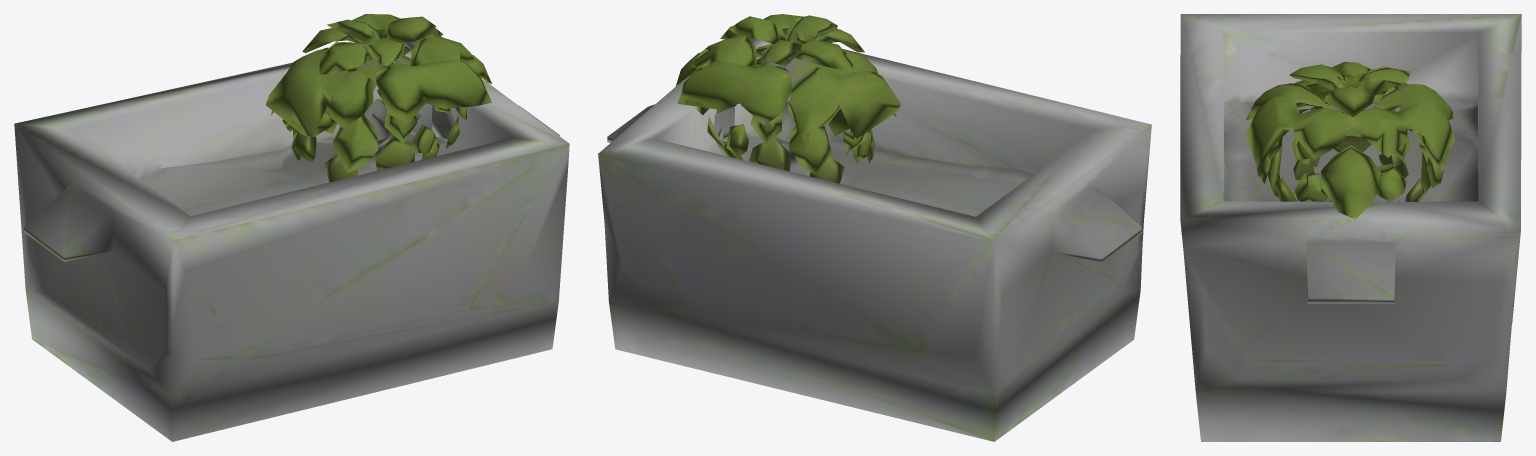
The picture shows the model from 3 angles, left to right: view 1: azimuth 30°, elevation 25°; view 2: azimuth 150°, elevation 25°; view 3: azimuth 270°, elevation 25°; orthographic projection. The views are drawn at different scales.
Size of the model in its own units: 1.9 by 1.09 by 1.06.
Materials: 1 (1 with a texture image).
